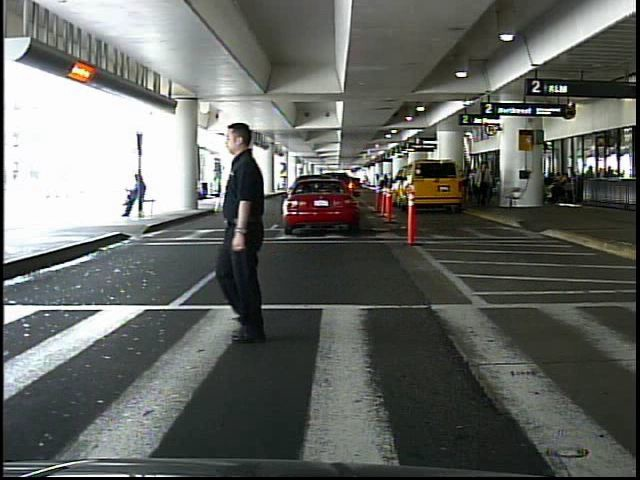person: (192, 122, 320, 345), (476, 161, 494, 208)
